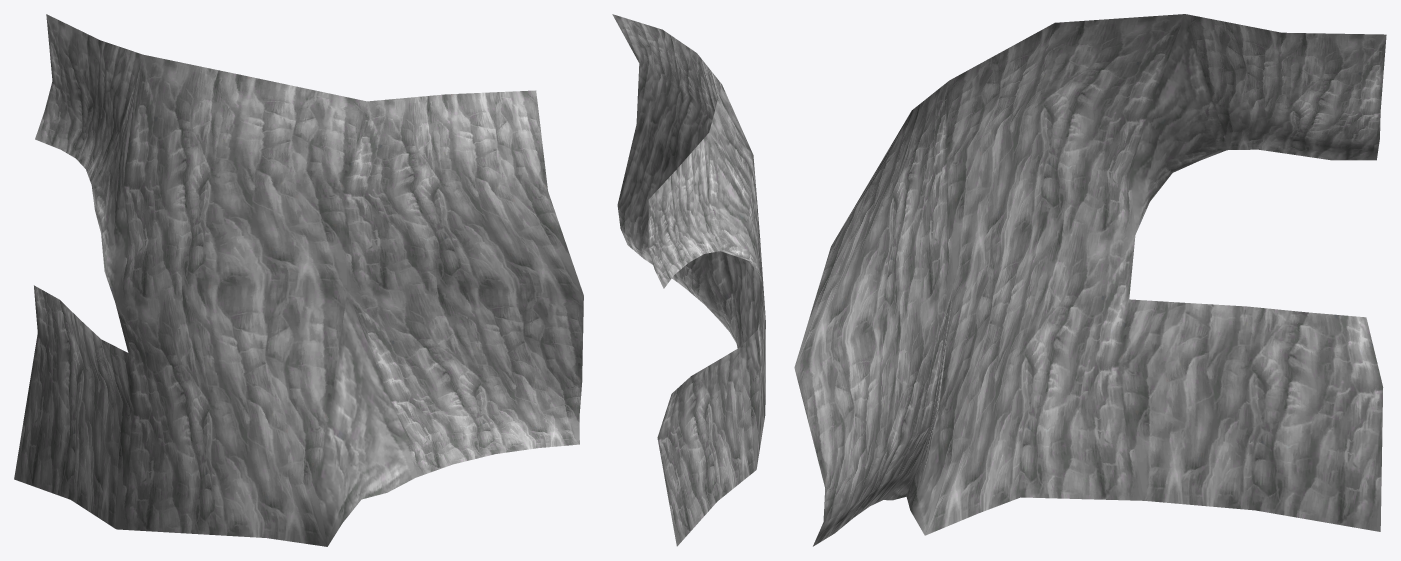
File: SWORDLIGHT20_PS-AREA03_189.fbx
The picture shows the model from 3 angles, left to right: view 1: azimuth 30°, elevation 25°; view 2: azimuth 150°, elevation 25°; view 3: azimuth 270°, elevation 25°; orthographic projection. The views are drawn at different scales.
Parts seen in each view (by area): view 1: SWORDLIGHT20_PS-AREA03_189; view 2: SWORDLIGHT20_PS-AREA03_189; view 3: SWORDLIGHT20_PS-AREA03_189.
Boxes of the visible parts, x1,y1,x2,y2 form: SWORDLIGHT20_PS-AREA03_189: (14, 14, 583, 546); SWORDLIGHT20_PS-AREA03_189: (612, 14, 765, 546); SWORDLIGHT20_PS-AREA03_189: (794, 14, 1386, 546).
Size of the model in its own units: 134764 by 188203 by 181796.
Materials: 2 (2 with a texture image).
